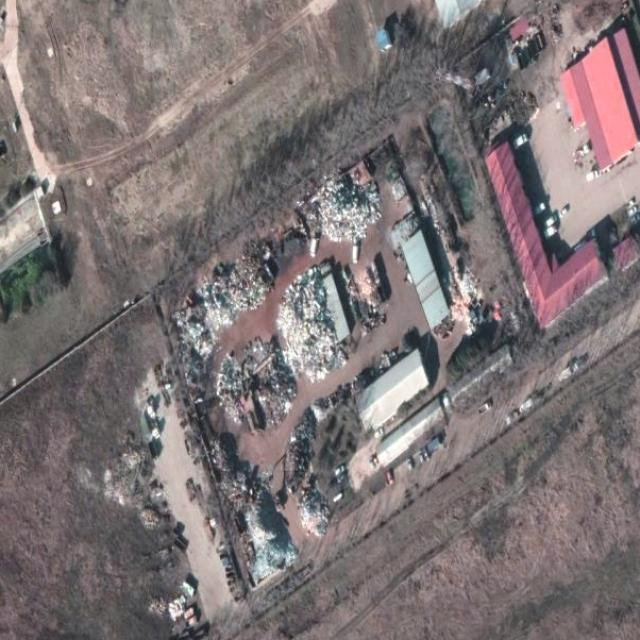dump_site: (272, 264, 346, 396), (226, 465, 297, 588), (275, 408, 332, 539), (311, 161, 384, 258), (240, 326, 301, 441), (198, 246, 268, 336), (170, 303, 217, 384), (210, 350, 251, 434), (348, 259, 390, 336), (208, 425, 254, 495), (438, 255, 481, 324)
